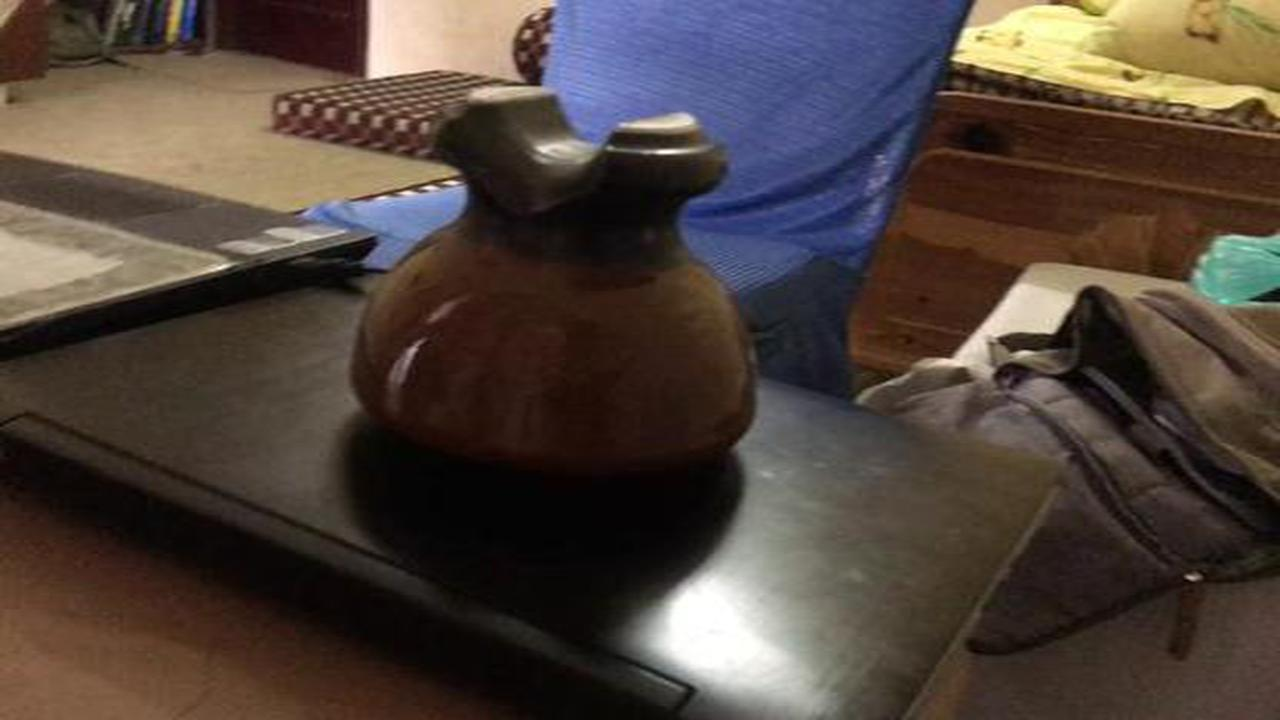insulator_pin: (333, 68, 788, 506)
